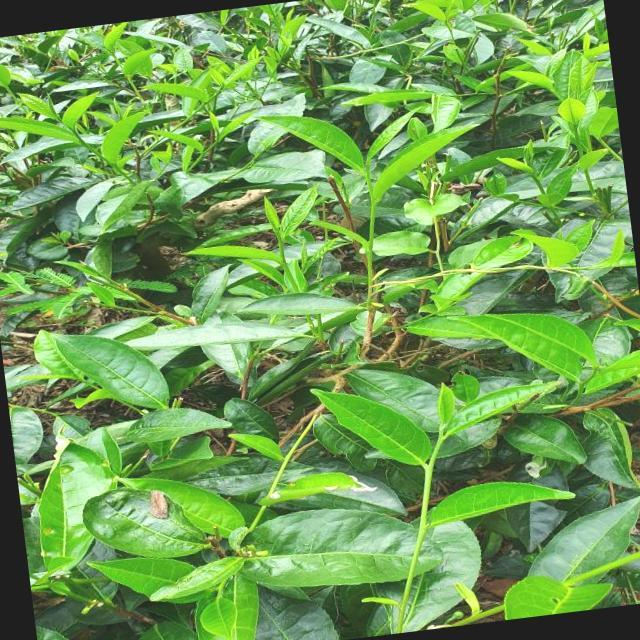Stem: (425, 466, 432, 476), (365, 168, 370, 178), (278, 240, 283, 249), (73, 130, 78, 136)
